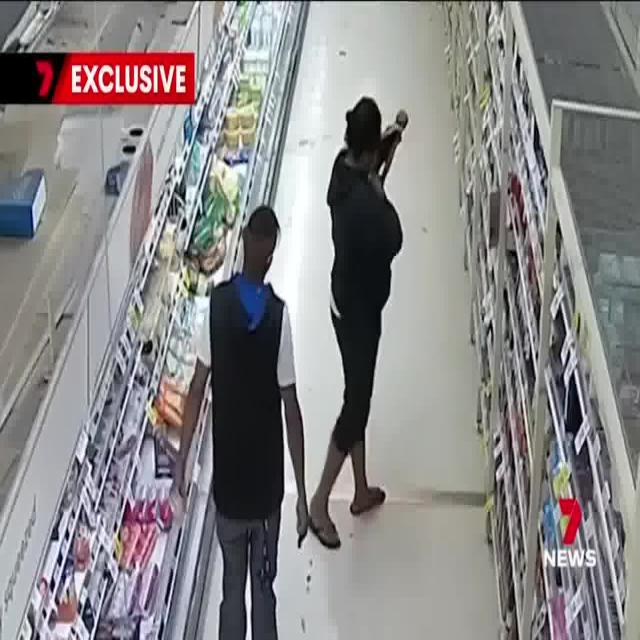persone: (320, 74, 412, 570)
